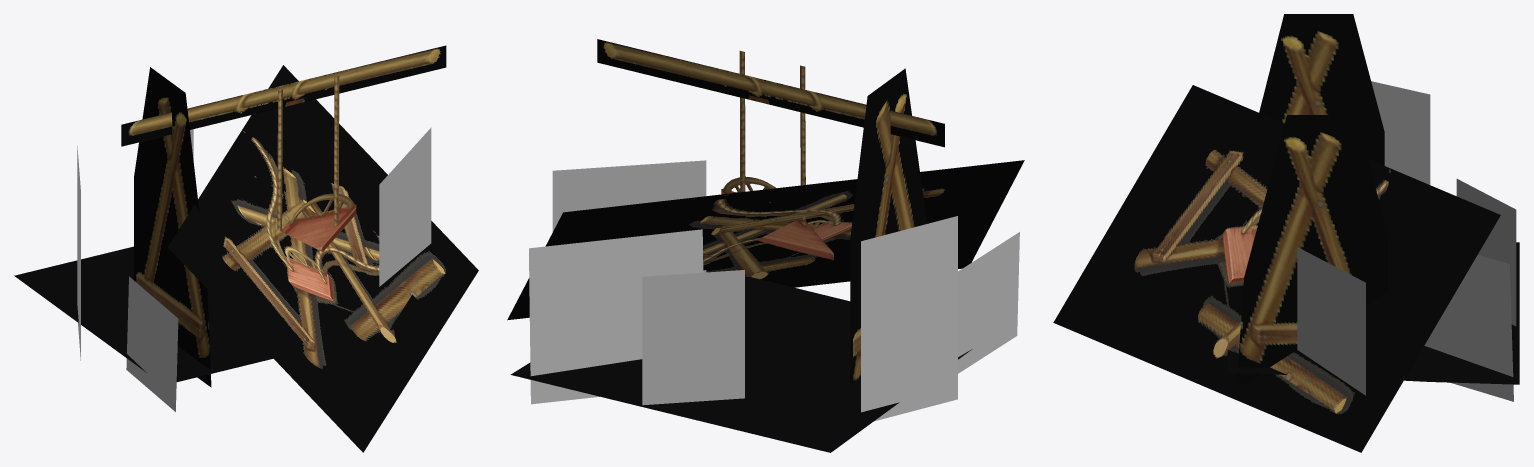
The model's file is K1_streetlight_Anim@refesh.FBX.
3 renders of one model, left to right at view 1: azimuth 30°, elevation 25°; view 2: azimuth 150°, elevation 25°; view 3: azimuth 270°, elevation 25°, orthographic. The views are drawn at different scales.
Parts seen in each view (by area): view 1: cs_streetlight_bad, k1_streetlight_006, k1_streetlight_0004, k1_streetlight_008, k1_zacao_2562, k1_zacao_2595, k1_streetlight_009, k1_zacao_2565; view 2: cs_streetlight_bad, k1_streetlight_0004, k1_zacao_2628, k1_zacao_2565, k1_zacao_2671, k1_streetlight_006, k1_streetlight_008, k1_zacao_2562, k1_zacao_2595, k1_streetlight_009; view 3: cs_streetlight_bad, k1_streetlight_007, k1_streetlight_006, k1_zacao_2562, k1_zacao_2628, k1_zacao_2565, k1_streetlight_0004, k1_zacao_2671.
Boxes of the visible parts, bbox=[...] form: cs_streetlight_bad: bbox=[168, 65, 478, 452]; k1_streetlight_006: bbox=[134, 67, 211, 387]; k1_streetlight_0004: bbox=[14, 246, 439, 381]; k1_streetlight_008: bbox=[121, 45, 446, 146]; k1_zacao_2562: bbox=[379, 127, 431, 286]; k1_zacao_2595: bbox=[126, 276, 178, 411]; k1_streetlight_009: bbox=[277, 75, 356, 251]; k1_zacao_2565: bbox=[77, 146, 80, 360]; cs_streetlight_bad: bbox=[507, 160, 1024, 320]; k1_streetlight_0004: bbox=[510, 277, 971, 452]; k1_zacao_2628: bbox=[529, 229, 703, 404]; k1_zacao_2565: bbox=[861, 216, 957, 421]; k1_zacao_2671: bbox=[642, 270, 744, 405]; k1_streetlight_006: bbox=[850, 68, 927, 385]; k1_streetlight_008: bbox=[597, 39, 944, 147]; k1_zacao_2562: bbox=[552, 160, 706, 272]; k1_zacao_2595: bbox=[958, 232, 1019, 373]; k1_streetlight_009: bbox=[721, 51, 833, 260]; cs_streetlight_bad: bbox=[1053, 85, 1500, 452]; k1_streetlight_007: bbox=[1236, 115, 1387, 383]; k1_streetlight_006: bbox=[1257, 14, 1384, 165]; k1_zacao_2562: bbox=[1297, 247, 1365, 395]; k1_zacao_2628: bbox=[1424, 254, 1513, 401]; k1_zacao_2565: bbox=[1371, 81, 1430, 184]; k1_streetlight_0004: bbox=[1227, 242, 1519, 384]; k1_zacao_2671: bbox=[1456, 179, 1516, 326].
Bounding box in the file's own units: 3.61 × 2.45 × 3.65.
